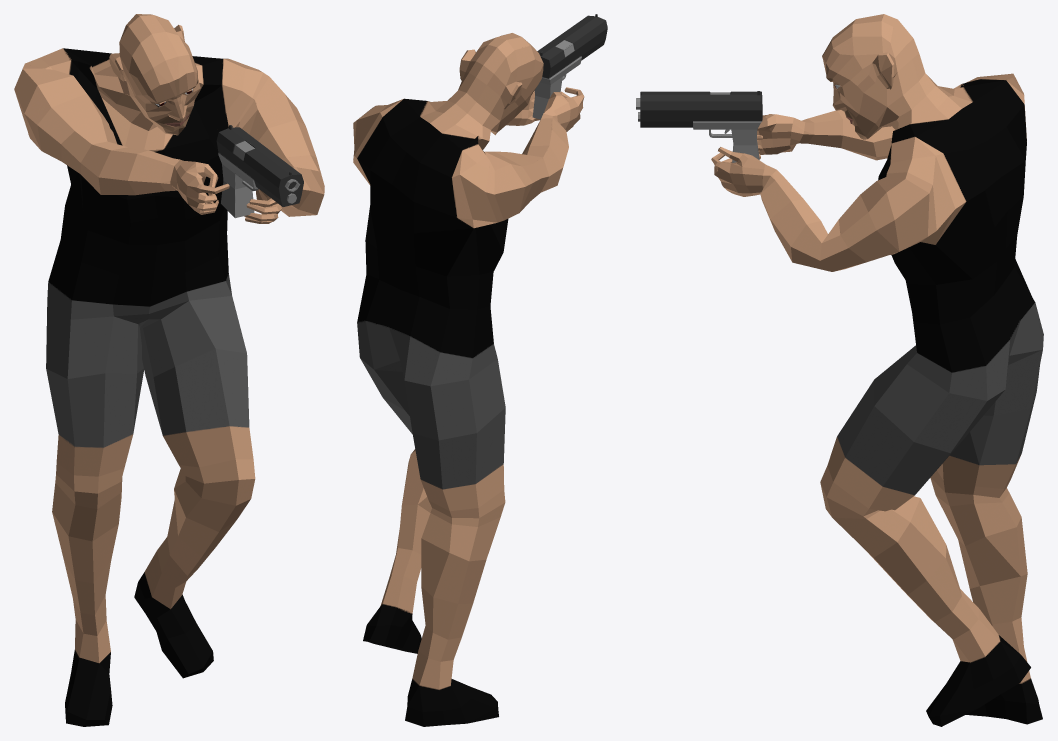
The model's file is PlayerWalk(23).obj.
3 views of the same model, side by side, from view 1: azimuth 30°, elevation 25°; view 2: azimuth 150°, elevation 25°; view 3: azimuth 270°, elevation 25° (orthographic). The views are drawn at different scales.
Visible parts, largest first — view 1: Plane002, Box003; view 2: Plane002, Box003; view 3: Plane002, Box003.
Boxes of the visible parts, x1,y1,x2,y2 form: Plane002: (14,14,324,726); Box003: (216,125,303,218); Plane002: (353,33,584,726); Box003: (532,14,607,119); Plane002: (711,14,1043,726); Box003: (636,91,762,162).
Size of the model in its own units: 573 by 1728 by 912.
